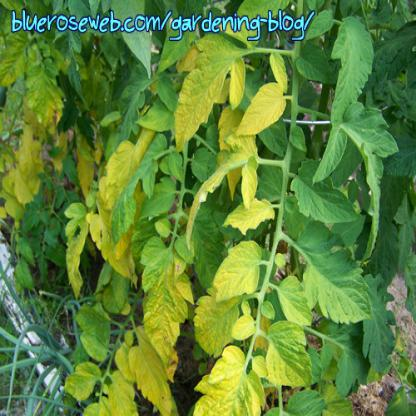tomato leaf yellow virus: (174, 33, 240, 143), (137, 242, 195, 366), (99, 124, 156, 250), (305, 256, 373, 341), (208, 231, 263, 319), (235, 72, 285, 148)
